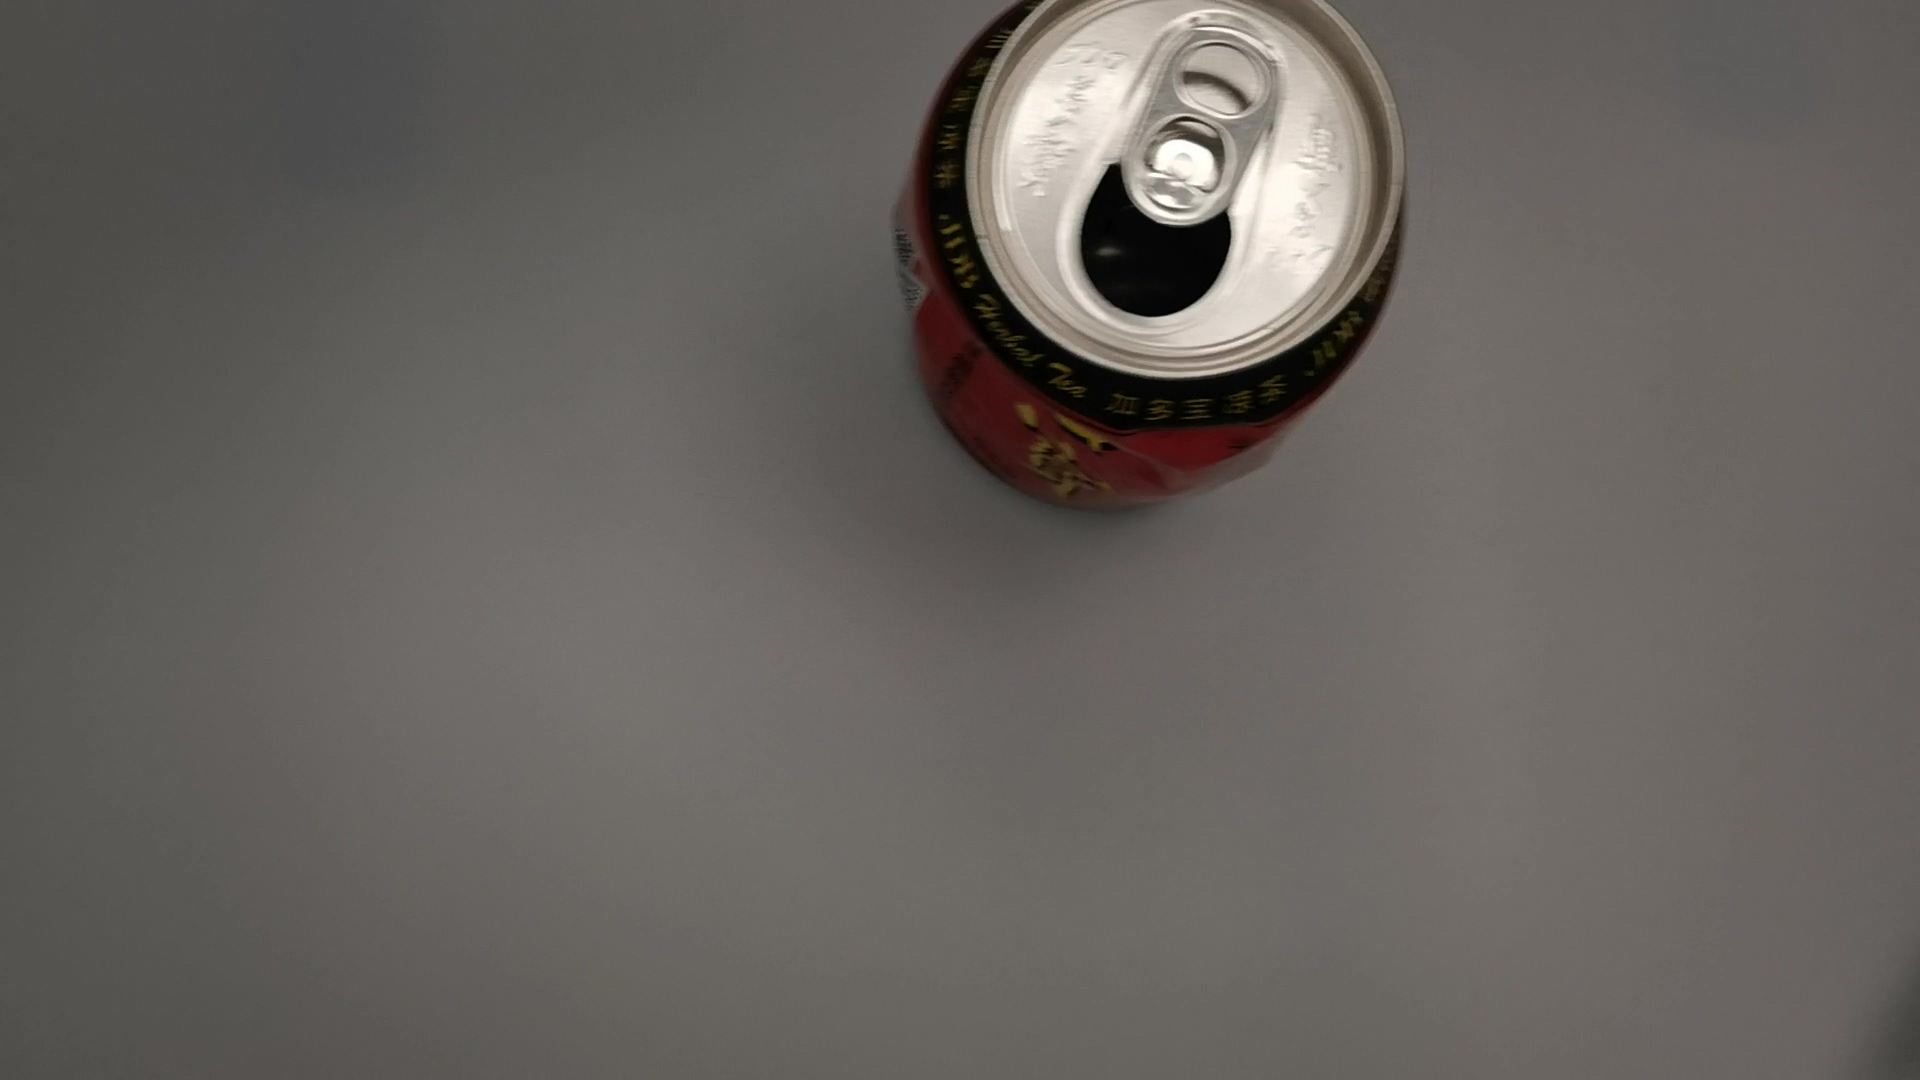can: (884, 1, 1422, 534)
